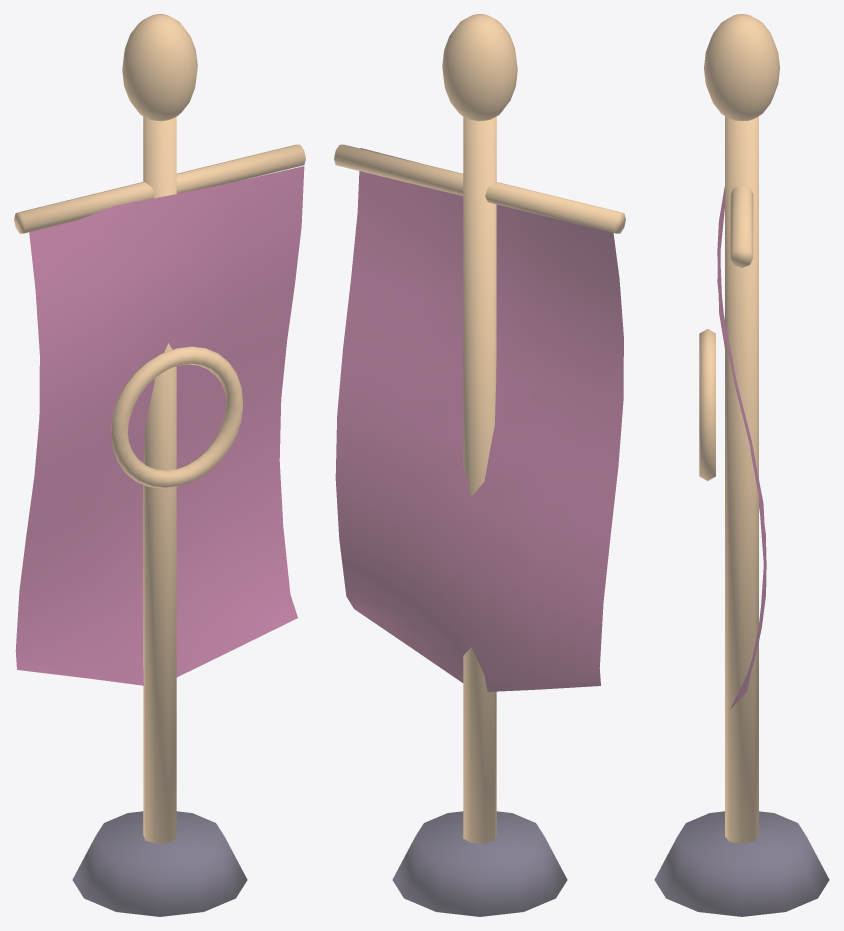
Rendered from castle_detail_banner_cursed.glb.
The picture shows the model from 3 angles, left to right: view 1: azimuth 30°, elevation 25°; view 2: azimuth 150°, elevation 25°; view 3: azimuth 270°, elevation 25°; orthographic projection.
Parts seen in each view (by area): view 1: castle_detail_banner_cursed_surface; view 2: castle_detail_banner_cursed_surface; view 3: castle_detail_banner_cursed_surface.
Part boxes in pixels (<box>): castle_detail_banner_cursed_surface: <box>14,14,305,916</box>; castle_detail_banner_cursed_surface: <box>334,14,625,916</box>; castle_detail_banner_cursed_surface: <box>654,14,829,916</box>.
Size of the model in its own units: 1.7 by 5 by 0.92.
